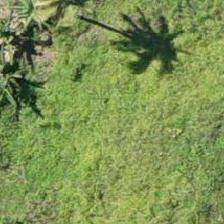coconut_tree: (16, 0, 106, 51)
